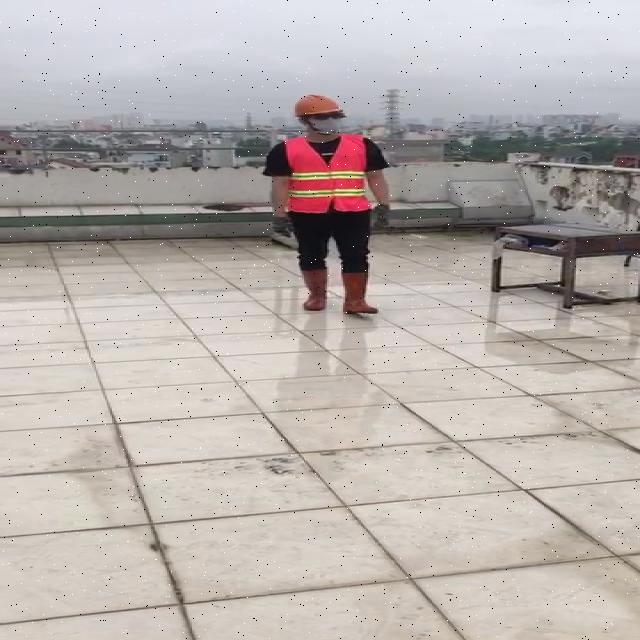Hard_hat: (288, 91, 349, 123)
Vest: (285, 132, 375, 215)
